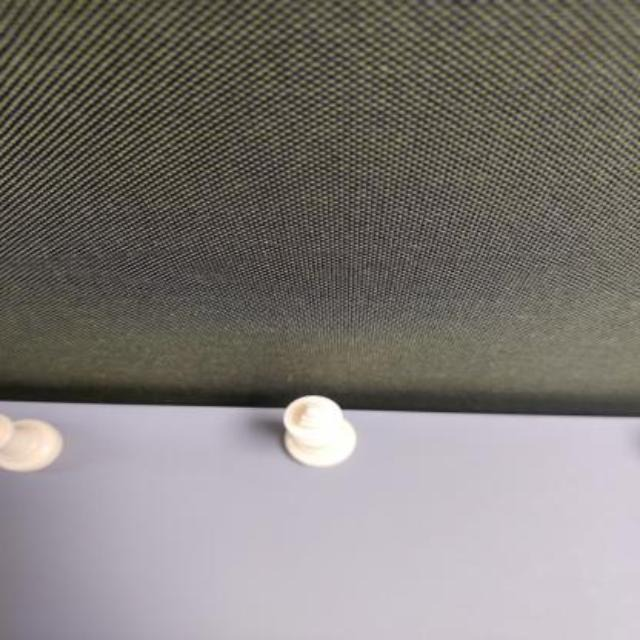white-king: (283, 394, 356, 466)
